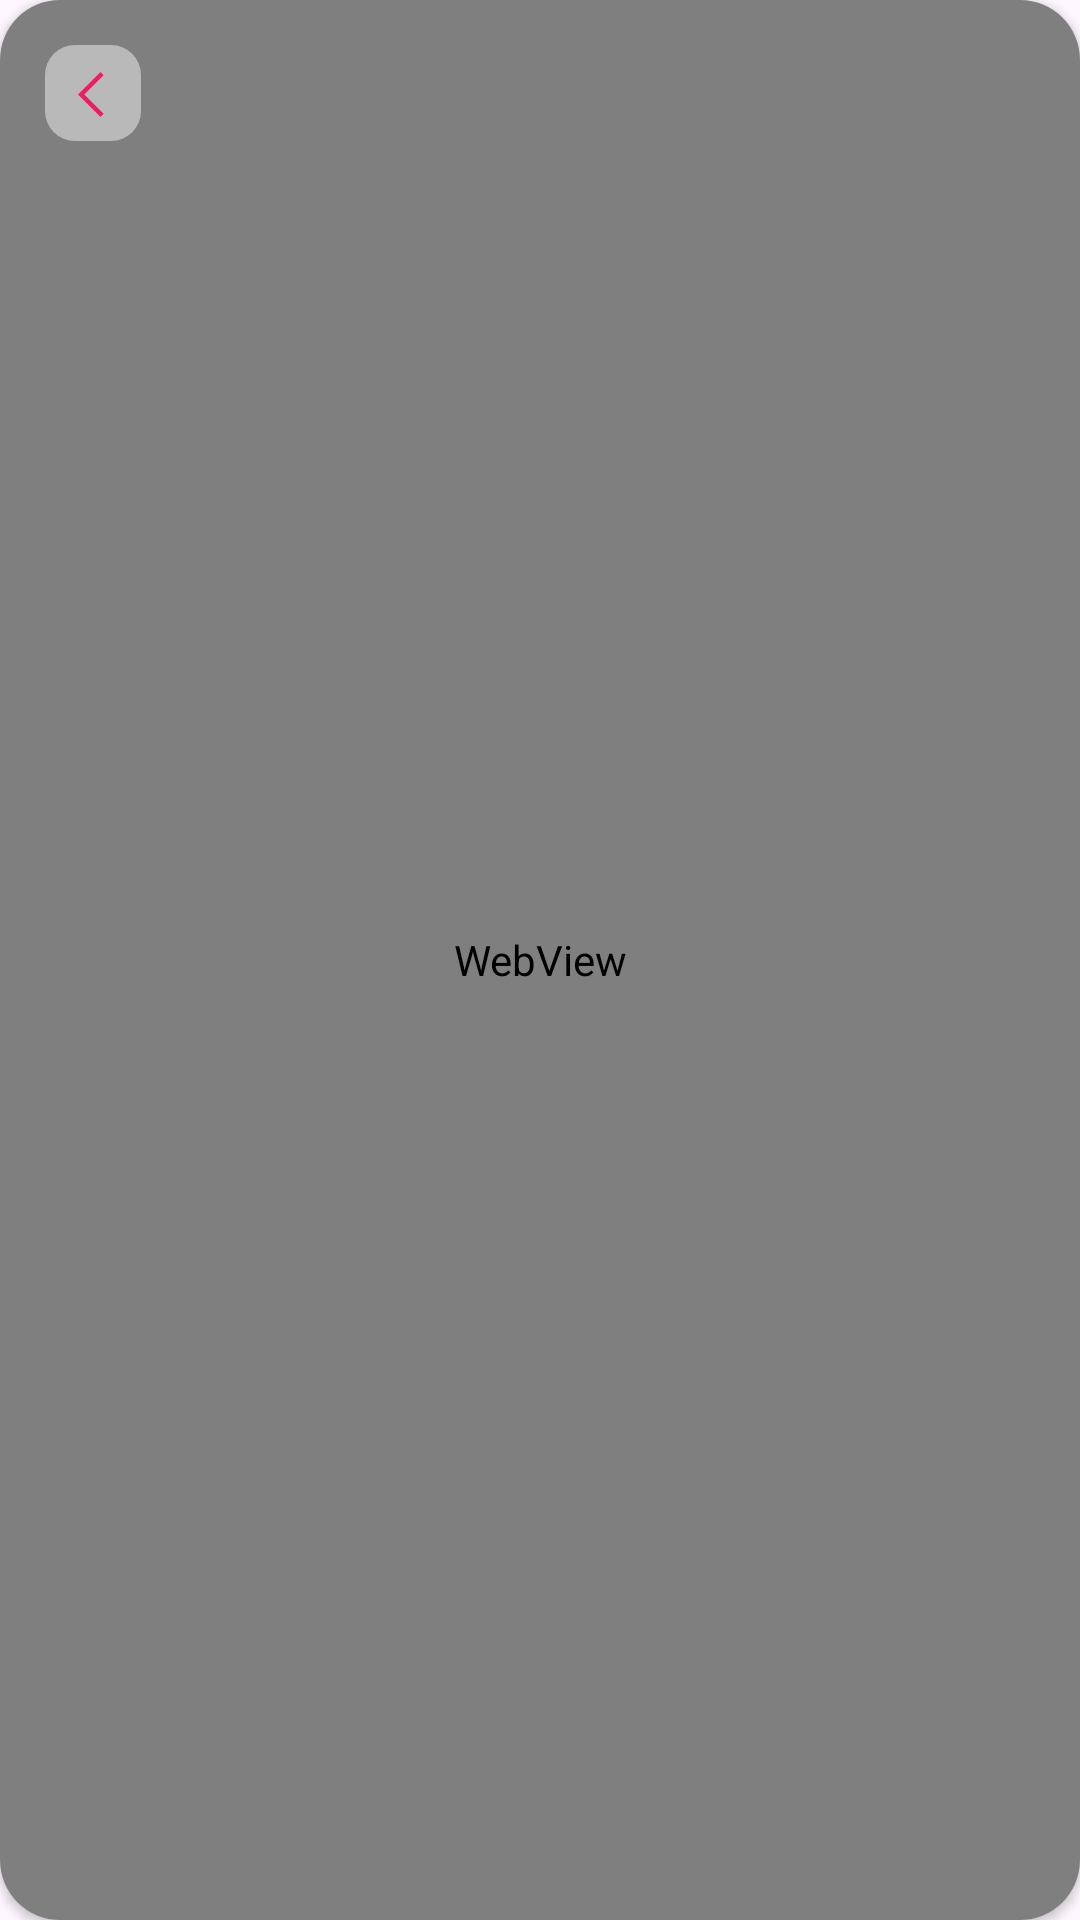

Screen size 1080×1920. Icon name, then its center in pixels as point (x, y):
back: point (93, 93)
